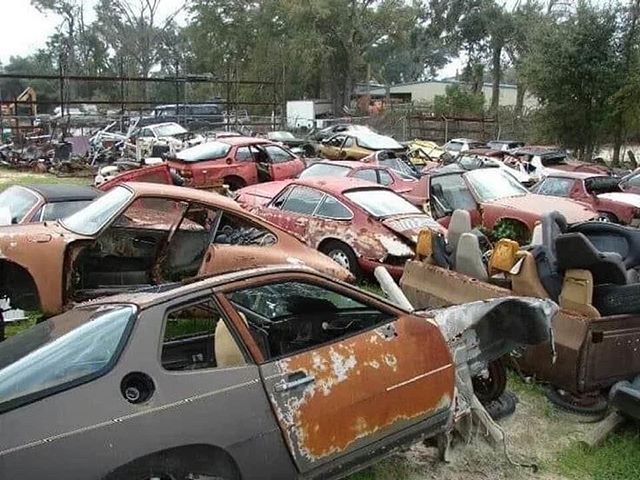car: (1, 264, 530, 480), (1, 190, 355, 298), (230, 172, 453, 276), (176, 127, 316, 197)
vegetation: (15, 1, 640, 111)
